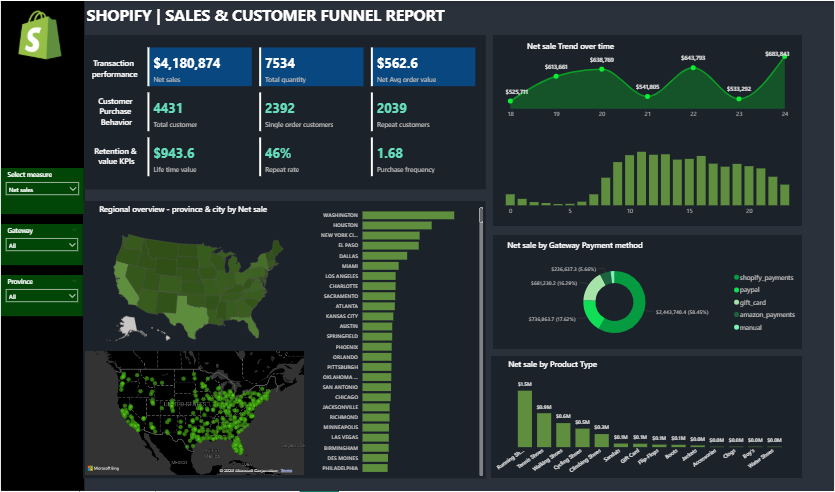

This screenshot's page, from the dashboard's own definition file:
{"tool":"powerbi","page":{"name":"Shopify Analysis ","canvas":[1700,1000],"ordinal":0},"visuals":[{"type":"shape","box":[0,0,170,999.5],"z":0},{"type":"textbox","box":[169.6,0,769.7,69.2],"z":1000},{"type":"shape","box":[170,69,820,315],"z":2000},{"type":"cardVisual","fields":{"Data":["shopify_sales.Net sales","shopify_sales.Total quantity","shopify_sales.Net Avg order value"]},"box":[294.5,89.2,680.4,89.2],"z":3000},{"type":"card","fields":{"Values":["shopify_sales.Transaction perf"]},"box":[169.6,95.9,124.9,82.5],"z":4000},{"type":"cardVisual","fields":{"Data":["shopify_sales.Total customer","shopify_sales.Single order customers","shopify_sales.Repeat customers"]},"box":[294.5,181.8,680.4,89.2],"z":5000},{"type":"card","fields":{"Values":["shopify_sales.Customer purchase behavior"]},"box":[178.5,178.5,116,89.2],"z":6000},{"type":"cardVisual","fields":{"Data":["shopify_sales.Life time value","shopify_sales.Repeat rate","shopify_sales.Purchase frequency"]},"box":[294.5,274.4,680.4,89.2],"z":7000},{"type":"card","fields":{"Values":["shopify_sales.retention and value kpis"]},"box":[178,272,116,90],"z":8000},{"type":"shape","box":[168,408,822,566],"z":9000},{"type":"shapeMap","fields":{"Value":["shopify_sales.Net sales"],"Category":["shopify_sales.Billing Address Province"]},"box":[167.3,459.2,457.1,251],"z":10000},{"type":"slicer","fields":{"Values":["Select measure 2.Select measure"]},"box":[0,340.5,169.1,93.9],"z":11000},{"type":"map","fields":{"Category":["shopify_sales.Location"]},"box":[167.3,710.2,457.1,263.3],"z":12000},{"type":"clusteredBarChart","fields":{"Y":["shopify_sales.Net sales"],"Category":["shopify_sales.CITY"]},"box":[635.8,408.3,352.5,566.7],"z":13000},{"type":"card","fields":{"Values":["shopify_sales.map title"]},"box":[169.4,408.2,404.1,38.8],"z":14000},{"type":"shape","box":[1004.1,69.4,630.6,389.8],"z":15000},{"type":"areaChart","fields":{"Y":["shopify_sales.Net sales"],"Category":["shopify_sales.Invoice Date.Variation.Date Hierarchy.Day"]},"box":[1024.5,89.8,589.8,159.2],"z":16000},{"type":"columnChart","fields":{"Y":["shopify_sales.Net sales"],"Category":["shopify_sales.HOUR"]},"box":[1024.5,265.3,589.8,181.6],"z":17000},{"type":"card","fields":{"Values":["shopify_sales.Trend title"]},"box":[1004.1,79.6,316.3,30.6],"z":18000},{"type":"shape","box":[1004.1,477.6,630.6,232.7],"z":19000},{"type":"donutChart","fields":{"Y":["shopify_sales.Net sales"],"Category":["shopify_sales.Gateway"]},"box":[1004.1,528.6,630.6,171.4],"z":20000},{"type":"card","fields":{"Values":["shopify_sales.gateway title"]},"box":[1004.1,483.7,334.7,32.7],"z":21000},{"type":"shape","box":[1000,724.5,634.7,249],"z":22000},{"type":"columnChart","fields":{"Y":["shopify_sales.Net sales"],"Category":["shopify_sales.Product Type"]},"box":[1004.1,761.2,610.2,212.2],"z":23000},{"type":"card","fields":{"Values":["shopify_sales.PRODUCT TITLE"]},"box":[1004.1,724.5,242.9,36.7],"z":24000},{"type":"image","box":[22.4,14.3,114.3,110.2],"z":25000},{"type":"slicer","fields":{"Values":["shopify_sales.Gateway"]},"box":[0,455.1,167.3,83.7],"z":26000},{"type":"slicer","fields":{"Values":["shopify_sales.Billing Address Province"]},"box":[0,559.2,167.3,83.7],"z":27000},{"type":"pageNavigator","box":[0,200,167.3,87.8],"z":28000}]}

Visuals, with their boxes in screenshot pixels (x1, y1, x2, y2), scaled from the page's 1700x1000 canvas onto the 835x492 screenshot:
shape: [left=0, top=0, right=84, bottom=491]
textbox: [left=83, top=0, right=461, bottom=34]
shape: [left=84, top=34, right=486, bottom=189]
cardVisual - shopify_sales.Net sales x shopify_sales.Total quantity: [left=145, top=44, right=479, bottom=88]
card - shopify_sales.Transaction perf: [left=83, top=47, right=145, bottom=88]
cardVisual - shopify_sales.Total customer x shopify_sales.Single order customers: [left=145, top=89, right=479, bottom=133]
card - shopify_sales.Customer purchase behavior: [left=88, top=88, right=145, bottom=132]
cardVisual - shopify_sales.Life time value x shopify_sales.Repeat rate: [left=145, top=135, right=479, bottom=179]
card - shopify_sales.retention and value kpis: [left=87, top=134, right=144, bottom=178]
shape: [left=83, top=201, right=486, bottom=479]
shapeMap - shopify_sales.Net sales x shopify_sales.Billing Address Province: [left=82, top=226, right=307, bottom=349]
slicer - Select measure 2.Select measure: [left=0, top=168, right=83, bottom=214]
map - shopify_sales.Location: [left=82, top=349, right=307, bottom=479]
clusteredBarChart - shopify_sales.Net sales x shopify_sales.CITY: [left=312, top=201, right=485, bottom=480]
card - shopify_sales.map title: [left=83, top=201, right=282, bottom=220]
shape: [left=493, top=34, right=803, bottom=226]
areaChart - shopify_sales.Net sales x shopify_sales.Invoice Date.Variation.Date Hierarchy.Day: [left=503, top=44, right=793, bottom=123]
columnChart - shopify_sales.Net sales x shopify_sales.HOUR: [left=503, top=131, right=793, bottom=220]
card - shopify_sales.Trend title: [left=493, top=39, right=649, bottom=54]
shape: [left=493, top=235, right=803, bottom=349]
donutChart - shopify_sales.Net sales x shopify_sales.Gateway: [left=493, top=260, right=803, bottom=344]
card - shopify_sales.gateway title: [left=493, top=238, right=658, bottom=254]
shape: [left=491, top=356, right=803, bottom=479]
columnChart - shopify_sales.Net sales x shopify_sales.Product Type: [left=493, top=375, right=793, bottom=479]
card - shopify_sales.PRODUCT TITLE: [left=493, top=356, right=612, bottom=375]
image: [left=11, top=7, right=67, bottom=61]
slicer - shopify_sales.Gateway: [left=0, top=224, right=82, bottom=265]
slicer - shopify_sales.Billing Address Province: [left=0, top=275, right=82, bottom=316]
pageNavigator: [left=0, top=98, right=82, bottom=142]
